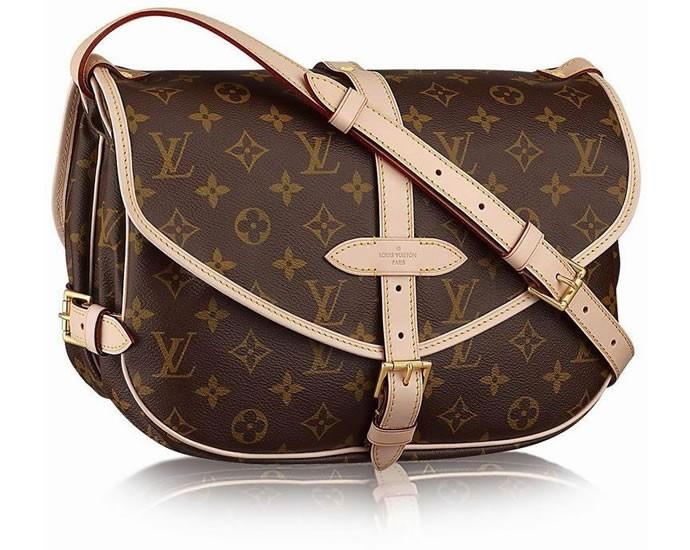LOUIS-VUITTON: (147, 329, 198, 380), (146, 128, 195, 180), (291, 129, 342, 176), (302, 278, 349, 327), (566, 130, 611, 179), (431, 129, 478, 173), (439, 277, 481, 326), (300, 340, 346, 376), (442, 336, 483, 370), (95, 201, 123, 249)
